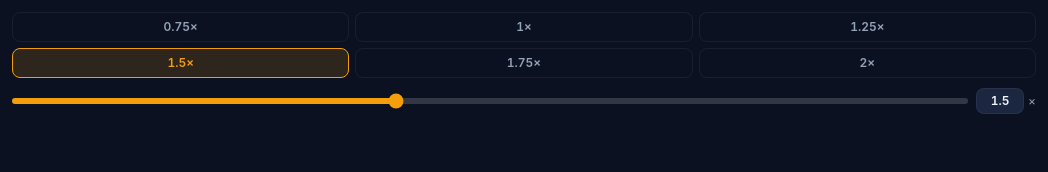
Test: PlaybackSpeedControl › text input reverts to current value on invalid entry
Replace the text in the field named "playback speed value" with "abc": (1000, 101) [976,88,1024,114]
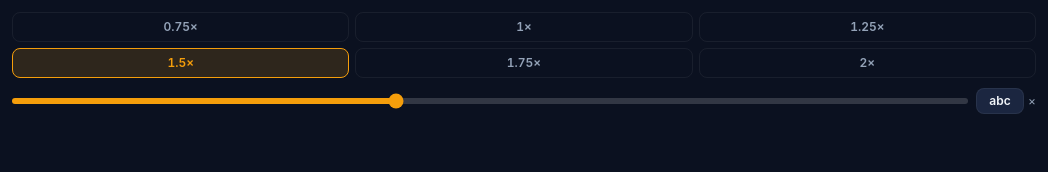
Leave the field named "playback speed value", box [976,88,1024,114]
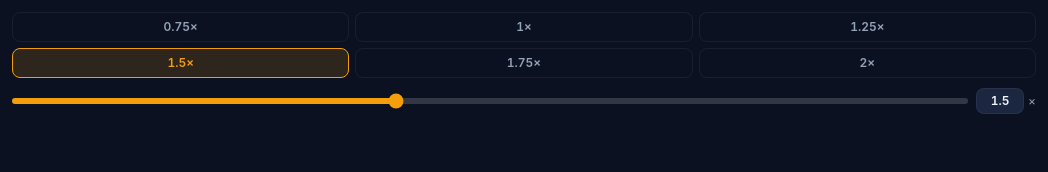
Now the field named "playback speed value" holds "1.5", box [976,88,1024,114]
